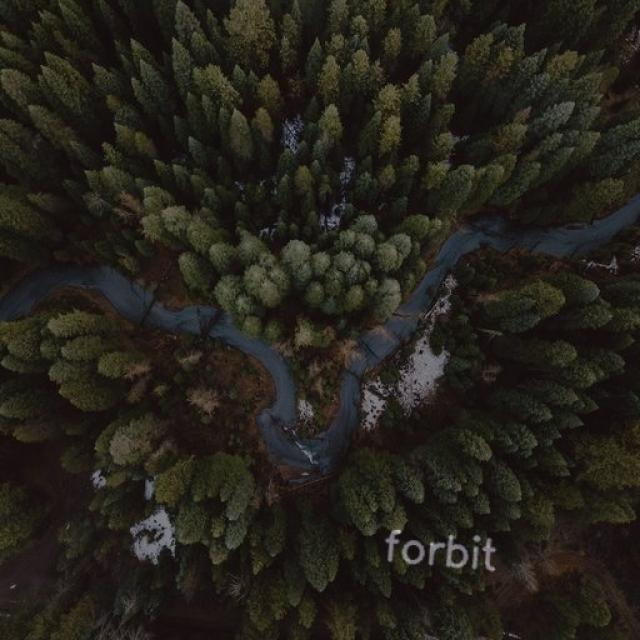watermark: (372, 528, 527, 576)
